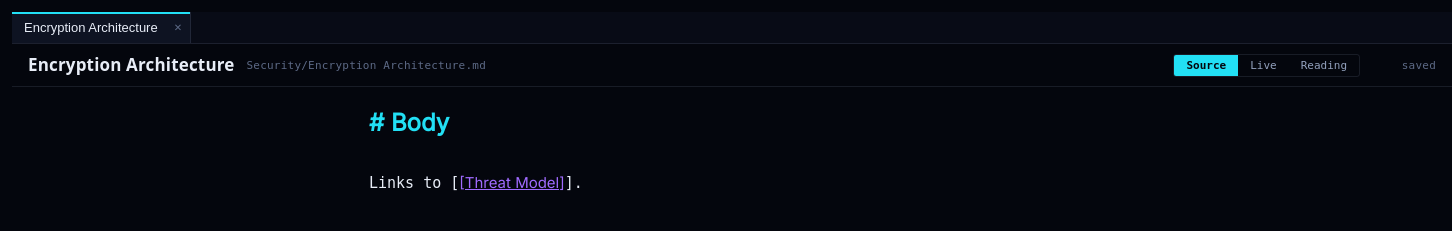
Test: EditorPane › shows the three view modes and switches between them
The image size is (1452, 231).
Step 1. Click the button "Reading" → coordinates (1324, 65), box [1289,55,1359,76]
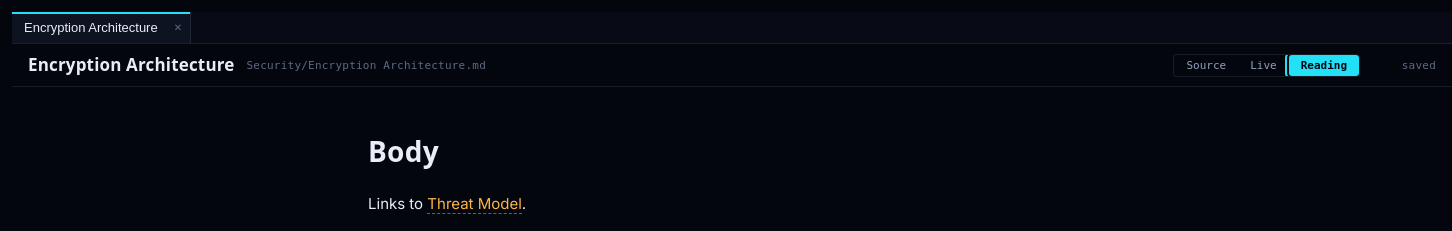
Expected: the element with test id "markdown-preview" is shown, [368,132,526,214]
